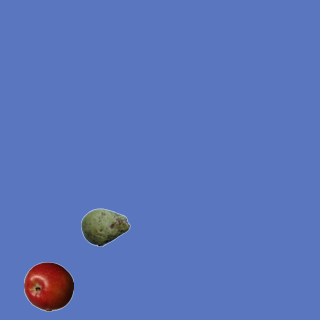Apple Braeburn: (23, 261, 73, 311)
Pear Stone: (80, 202, 130, 252)
